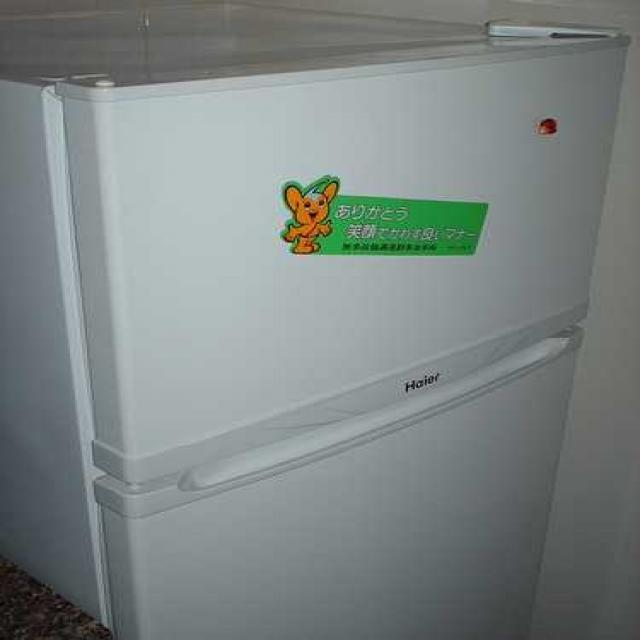refrigerator: (14, 30, 630, 640)
